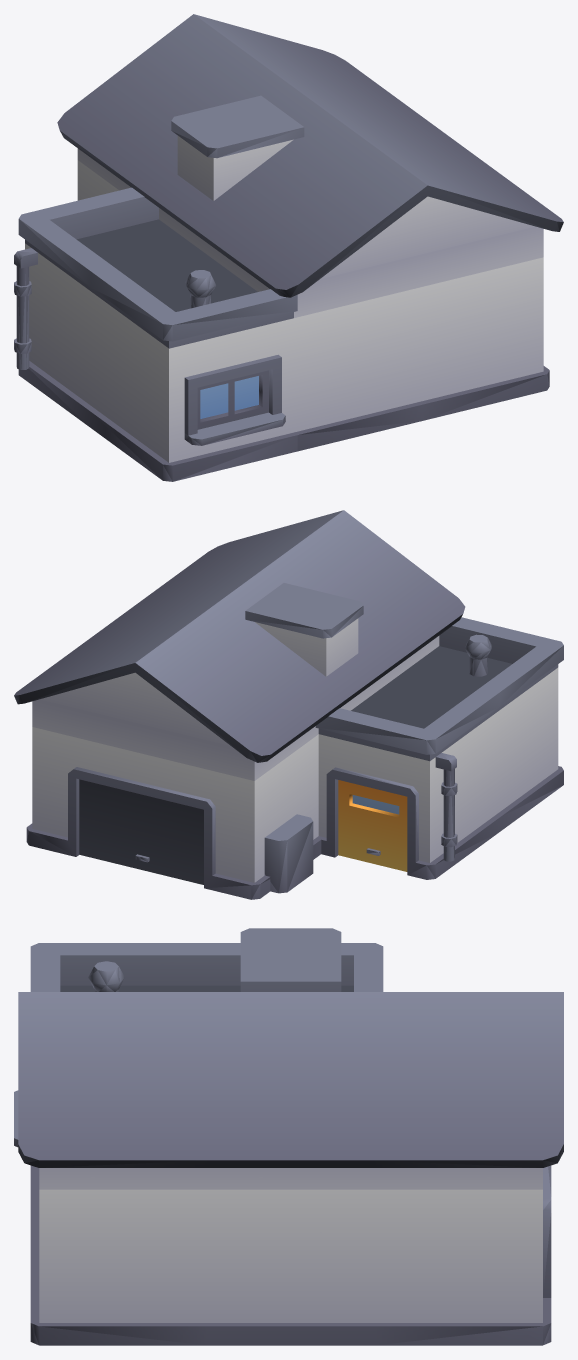
File: ki_building_h.fbx
3 views of the same model, one above another, from view 1: azimuth 30°, elevation 25°; view 2: azimuth 150°, elevation 25°; view 3: azimuth 270°, elevation 25° (orthographic). The views are drawn at different scales.
Visible parts, largest first — view 1: ki_building_h_LOD0; view 2: ki_building_h_LOD0; view 3: ki_building_h_LOD0.
Boxes of the visible parts, x1=… form: ki_building_h_LOD0: x1=14, y1=14, x2=563, y2=481; ki_building_h_LOD0: x1=14, y1=510, x2=563, y2=899; ki_building_h_LOD0: x1=14, y1=928, x2=563, y2=1345.
Size of what is drawn, in the model's own units: 11.23 by 6.24 by 11.14.
